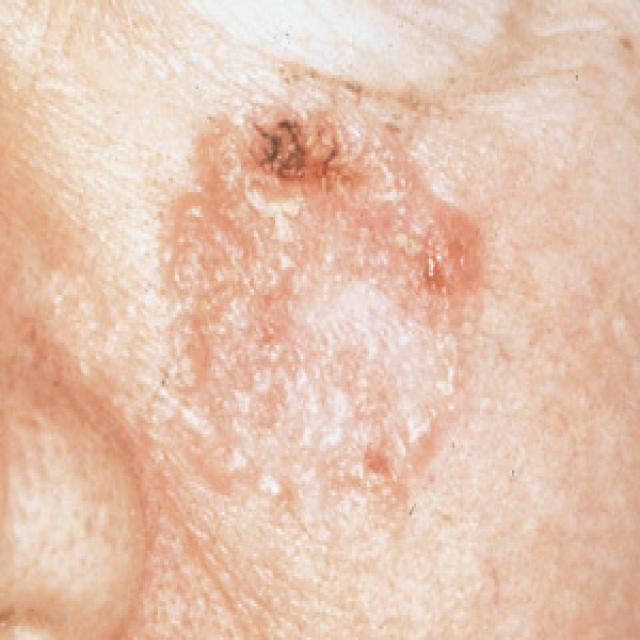Cancer: (130, 57, 518, 545)
